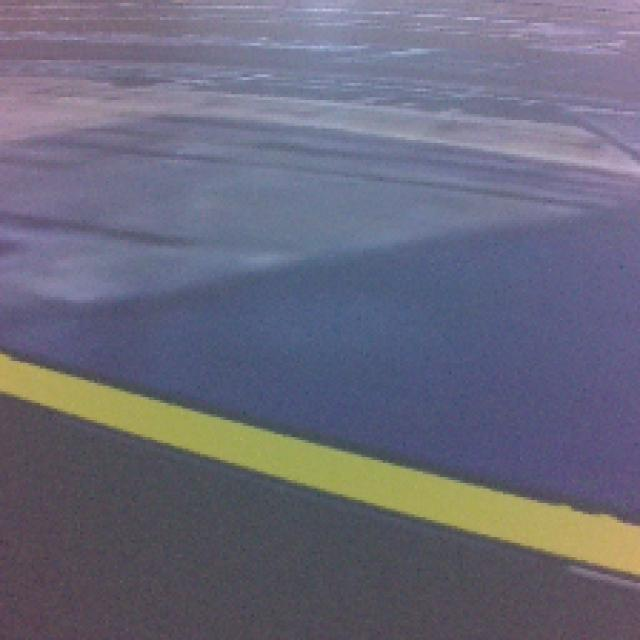Pedestrian crosswalk: (0, 354, 640, 581)
